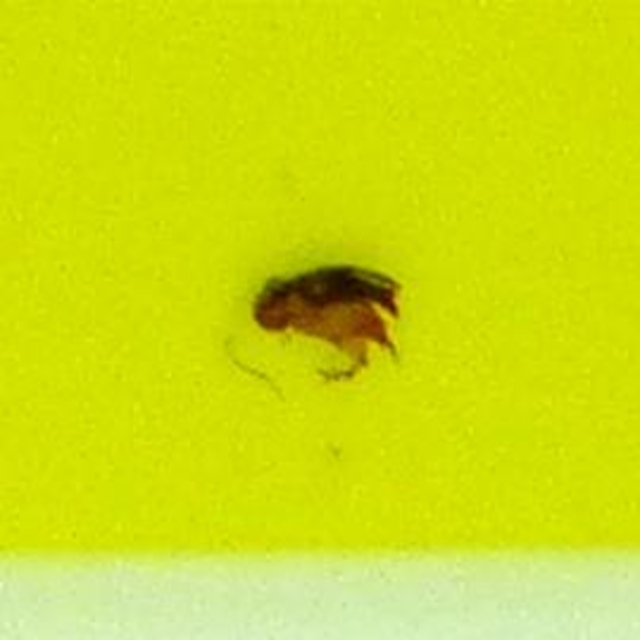Coleoptera: (238, 251, 402, 389)
